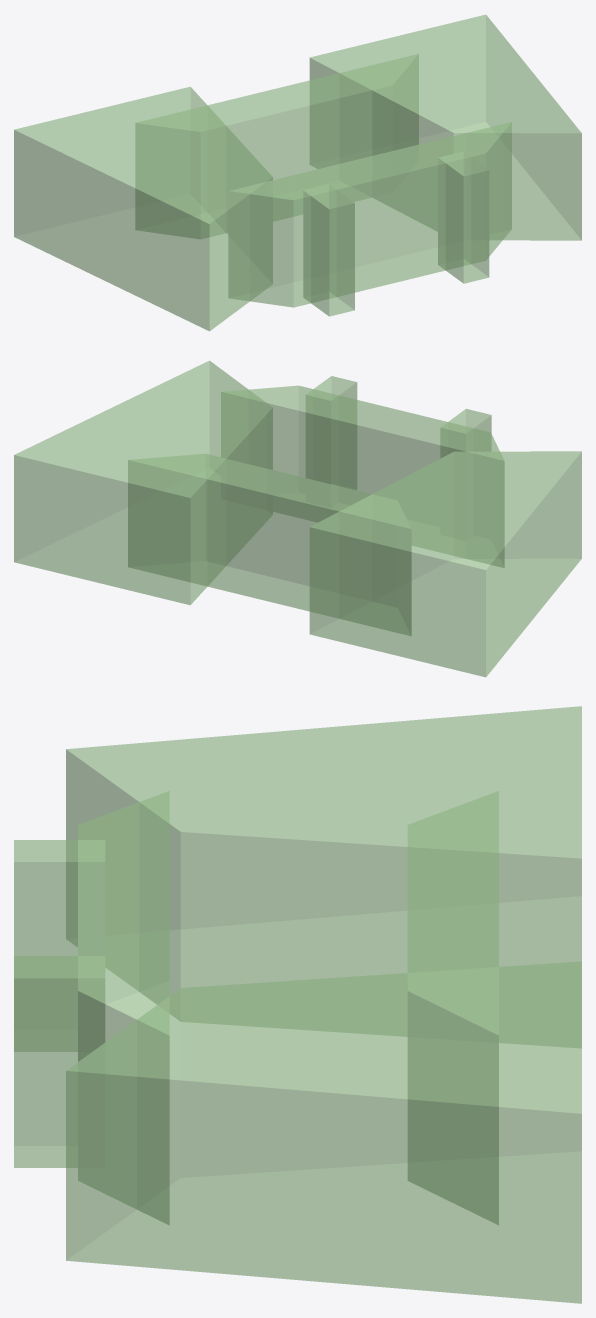
Rendered from walmart_collider.fbx.
3 views of the same model, one above another, from view 1: azimuth 30°, elevation 25°; view 2: azimuth 150°, elevation 25°; view 3: azimuth 270°, elevation 25° (orthographic). The views are drawn at different scales.
Parts seen in each view (by area): view 1: walmart_collider; view 2: walmart_collider; view 3: walmart_collider.
Part boxes in pixels (bbox=[...]): walmart_collider: bbox=[14, 14, 581, 331]; walmart_collider: bbox=[14, 360, 581, 677]; walmart_collider: bbox=[14, 706, 581, 1303].
Size of the model in its own units: 2697 by 586 by 1587.
